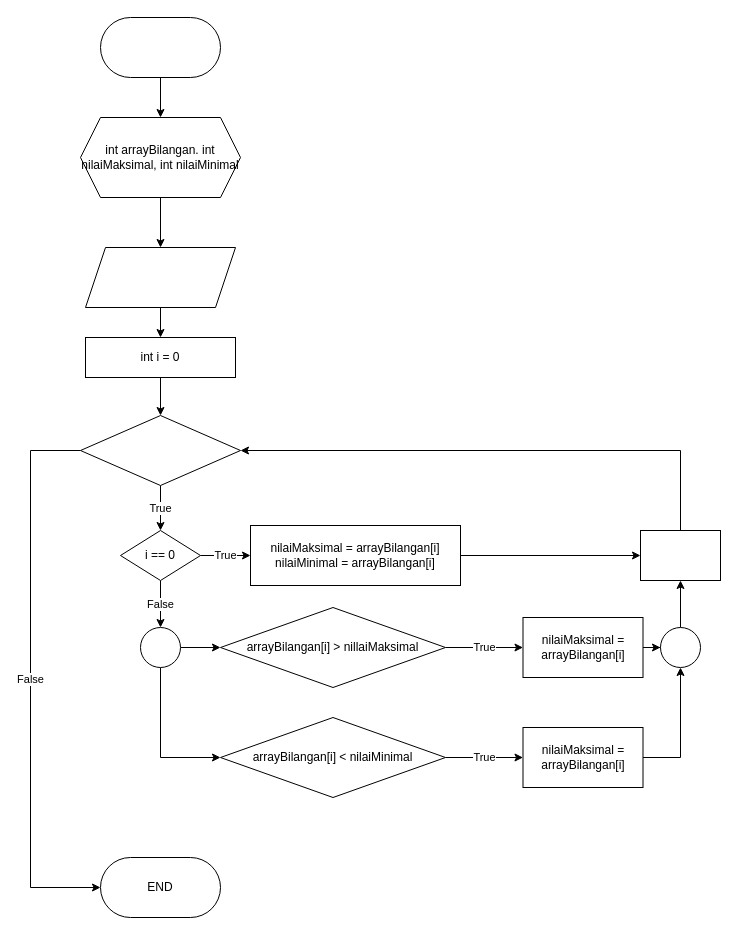
This 738x935 diagram has some shape labels left out. The box of each missing label's shape, as (x1, y1, x2, y2) in pixels:
i < arrayBilangan.length: (80, 414, 240, 486)
i++: (640, 530, 720, 580)
input arrayBilangan: (84, 246, 236, 308)
START: (100, 16, 220, 78)
